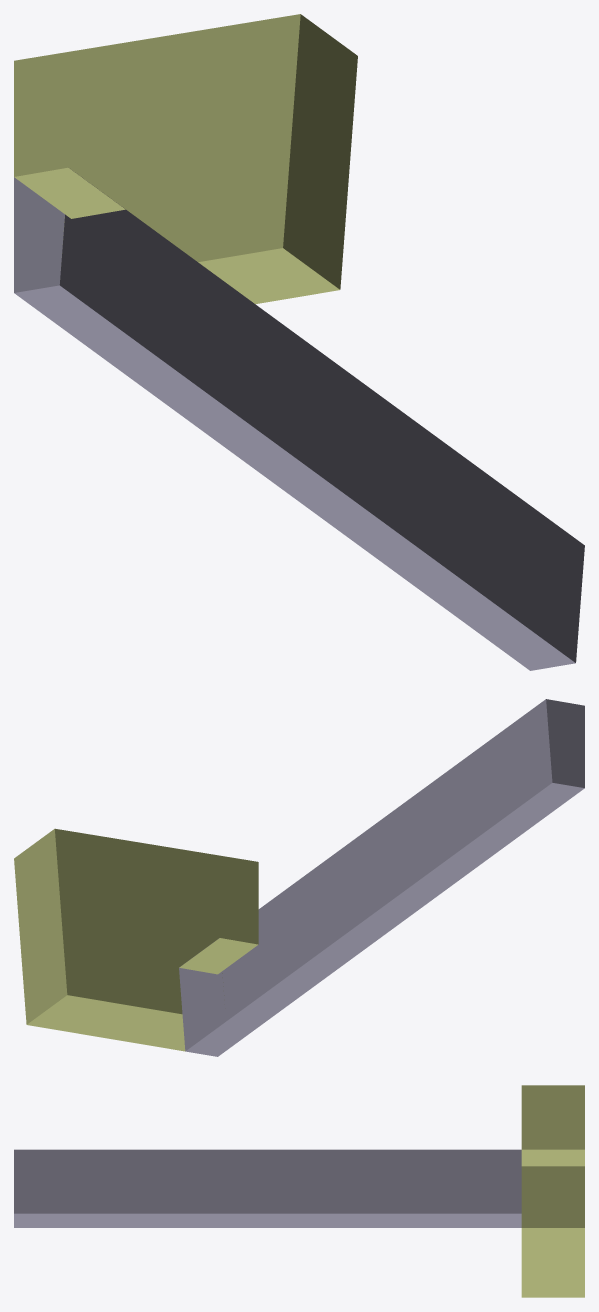
The picture shows the model from 3 angles, top to bottom: view 1: azimuth 30°, elevation 25°; view 2: azimuth 150°, elevation 25°; view 3: azimuth 270°, elevation 25°; orthographic projection. The views are drawn at different scales.
Parts seen in each view (by area): view 1: 0_1_3_2_1_1_2_2_0; view 2: 0_1_3_2_1_1_2_2_0; view 3: 0_1_3_2_1_1_2_2_0.
Part boxes in pixels (bbox=[...]): 0_1_3_2_1_1_2_2_0: bbox=[14, 14, 584, 670]; 0_1_3_2_1_1_2_2_0: bbox=[14, 699, 584, 1056]; 0_1_3_2_1_1_2_2_0: bbox=[14, 1085, 584, 1297].
Bounding box in the file's own units: 17.31 × 14.6 × 54.
